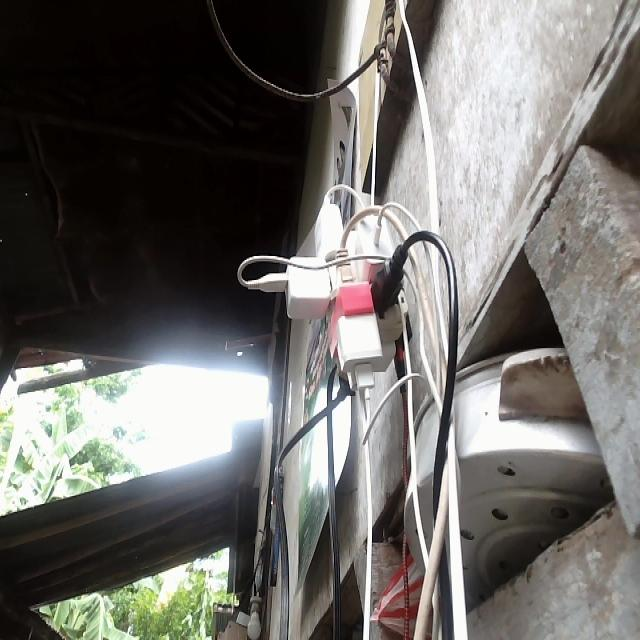-: (236, 182, 427, 414)
